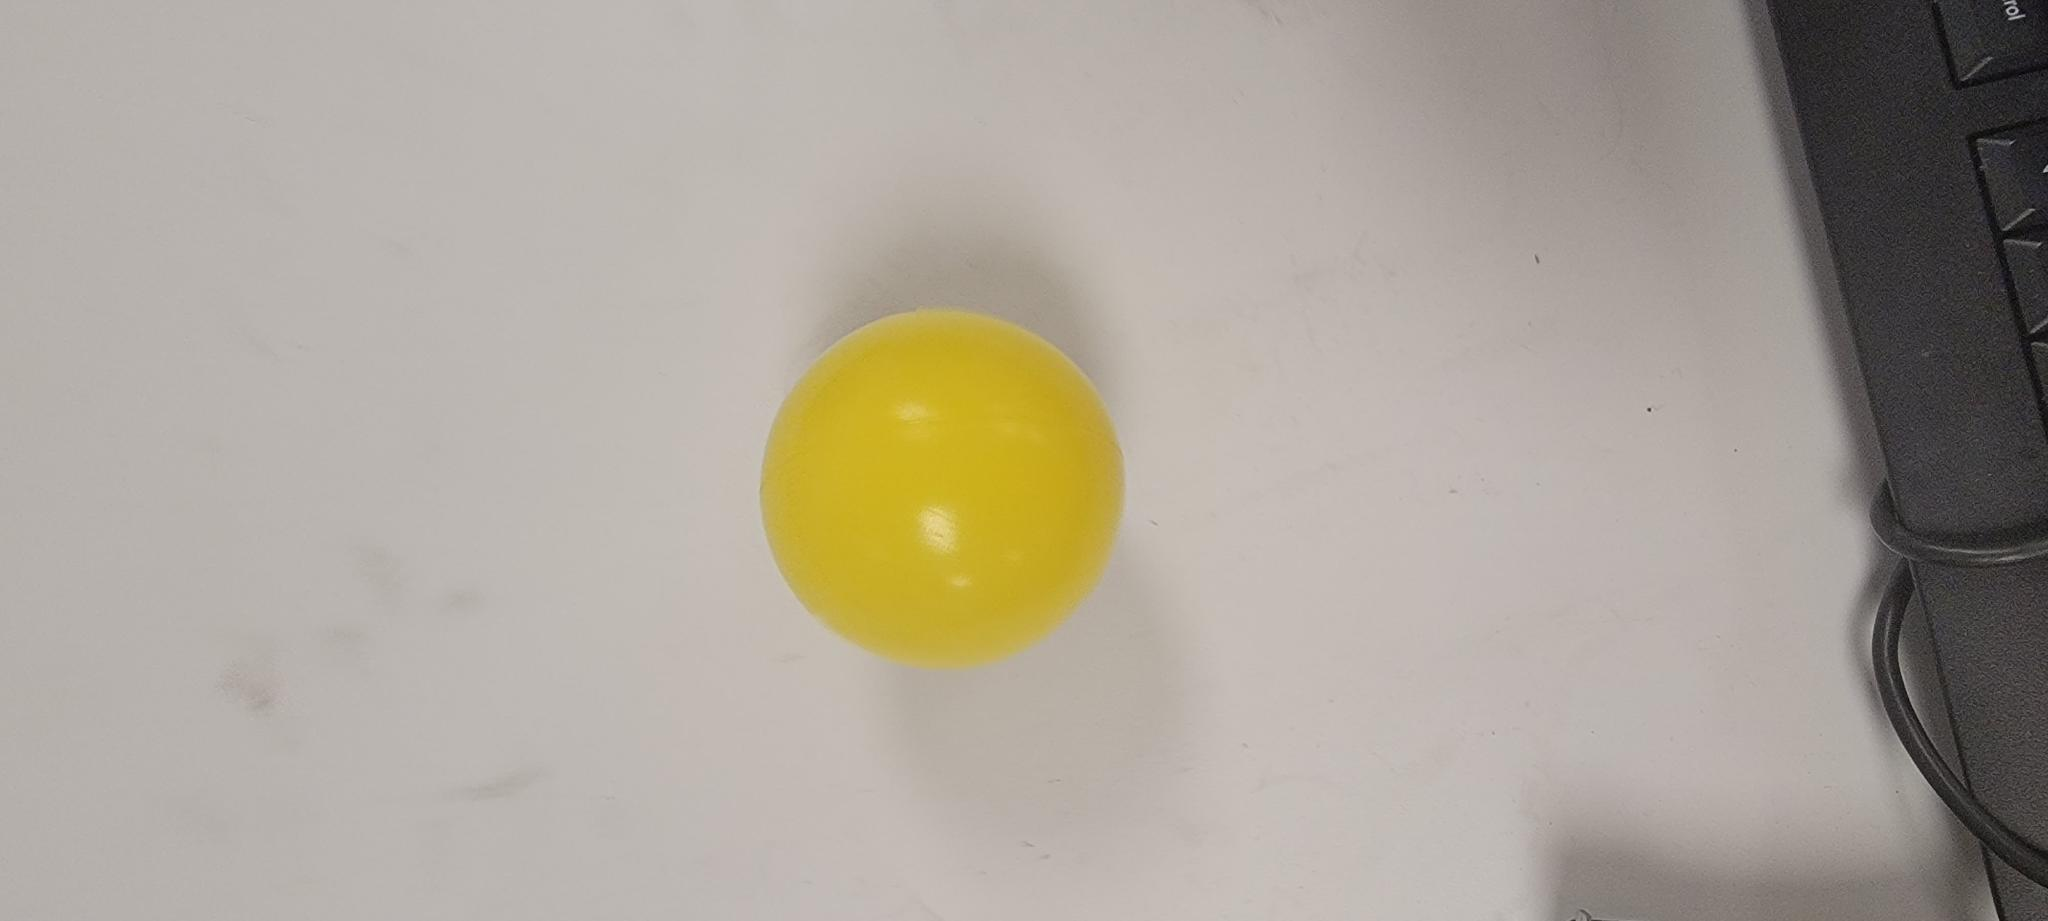Yellow-Ball: (259, 764, 619, 921)
